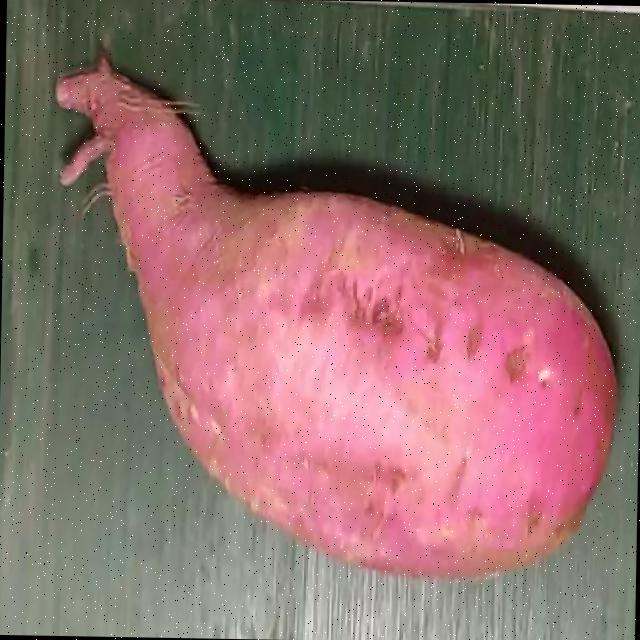Sweet Potato: (53, 46, 618, 579)
